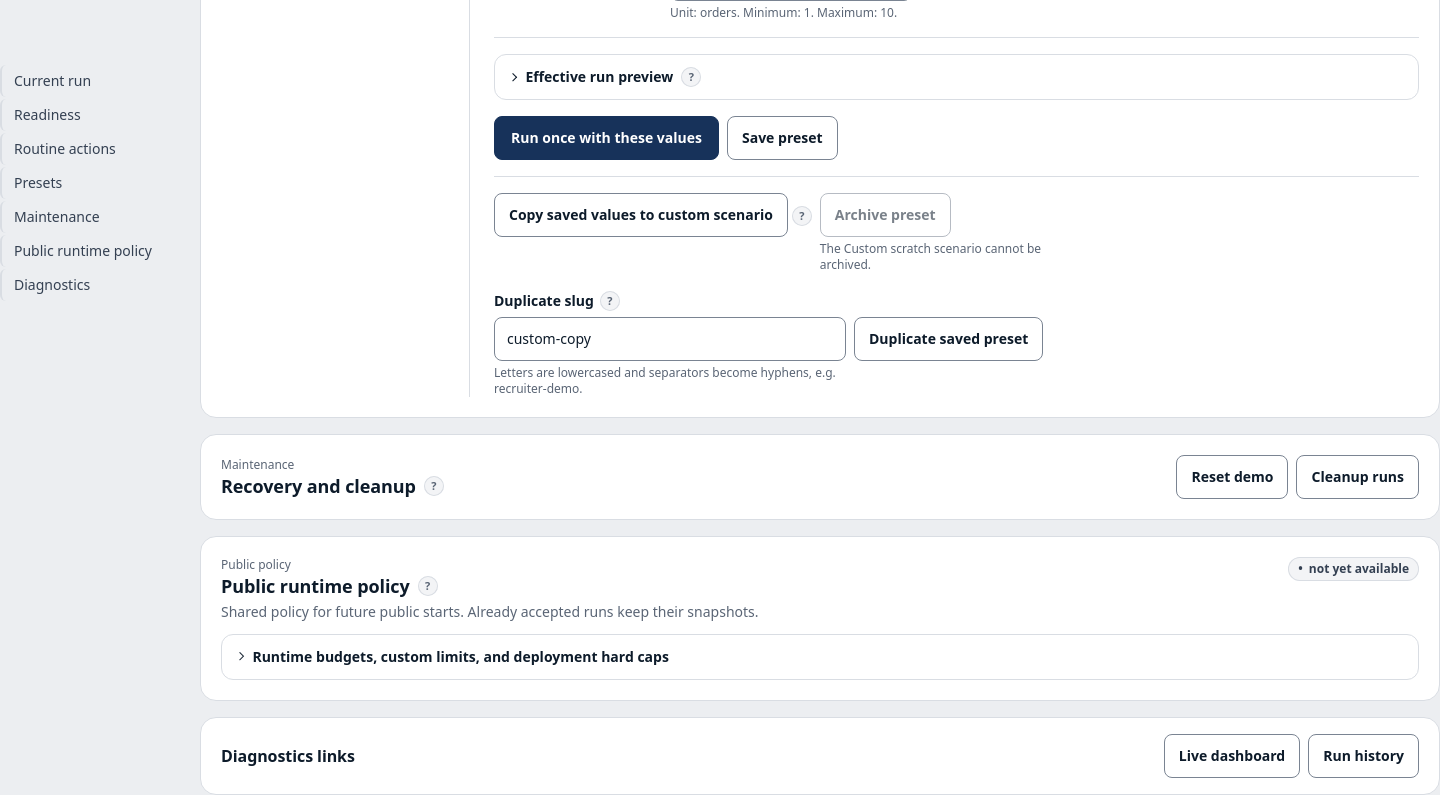
Test case: admin feature controllers › QA transport: cleanup › releases pending after an unavailable response without claiming success or retrying
The image size is (1440, 795).
(page scrolled)
Click the button "Cleanup runs" at (1358, 477), box [1296,455,1419,499]
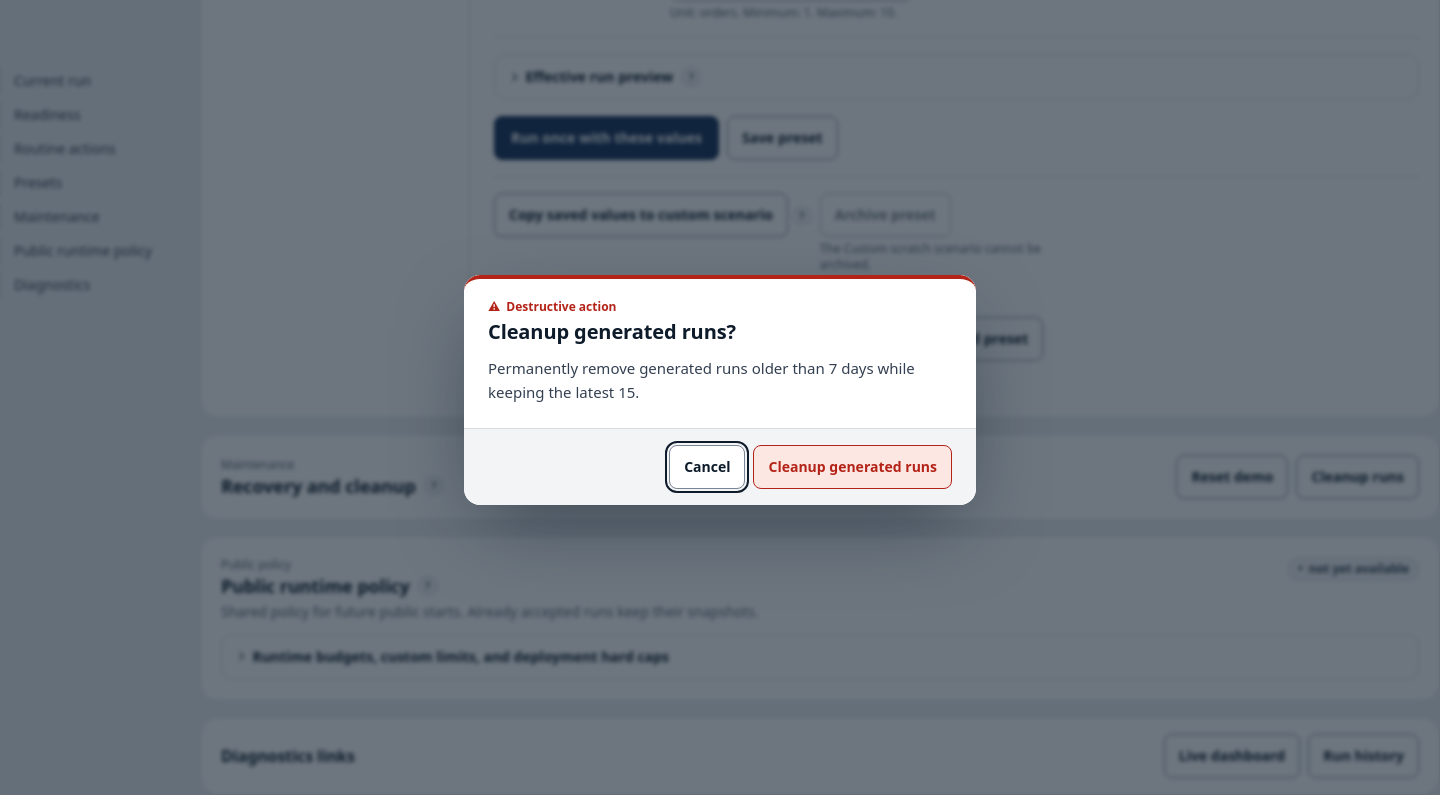
Click the button "Cleanup generated runs" at (853, 467), box [754,445,952,489]
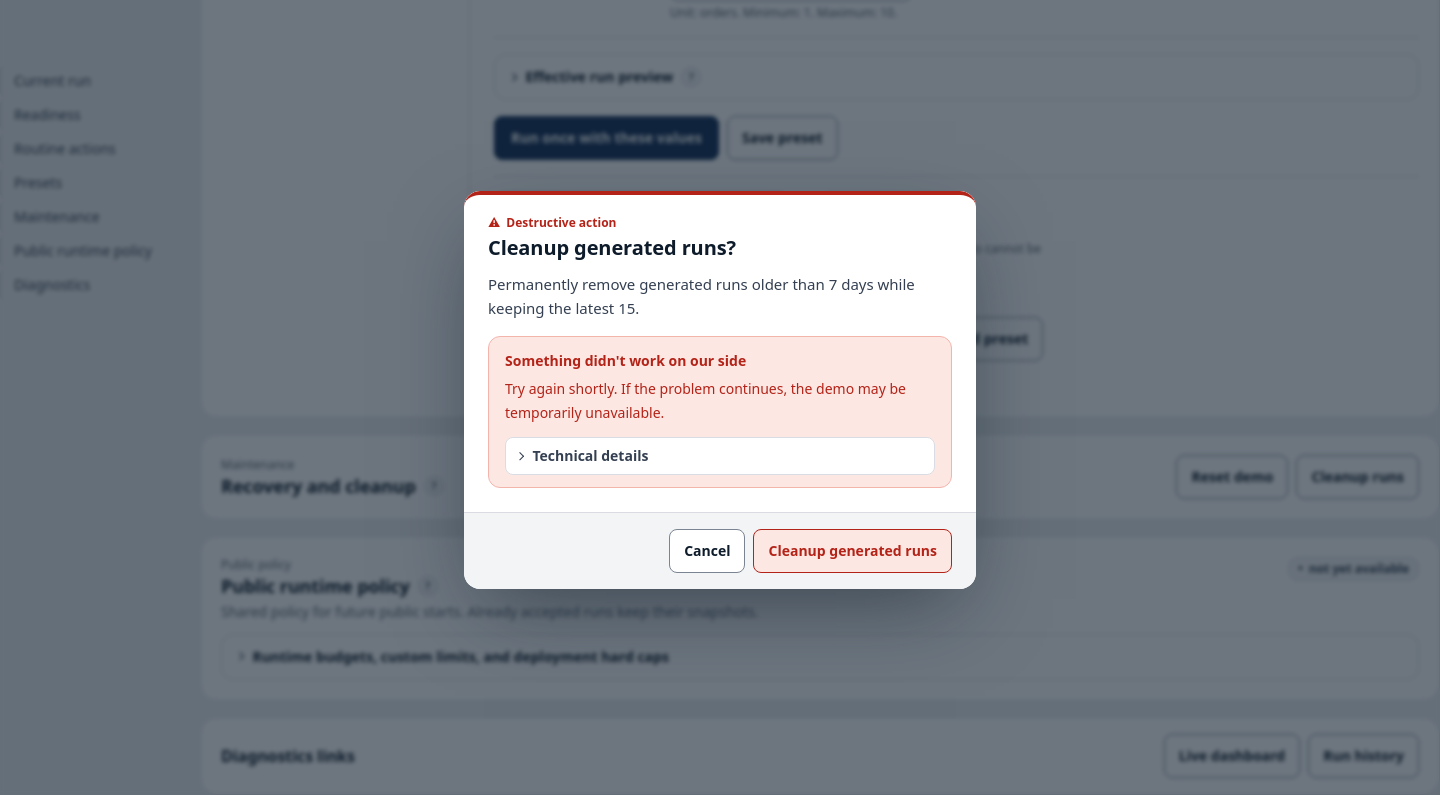
Expected: the button "Cleanup generated runs" is enabled, [754,529,952,573]
Expected: the message is shown, [488,336,952,488]
